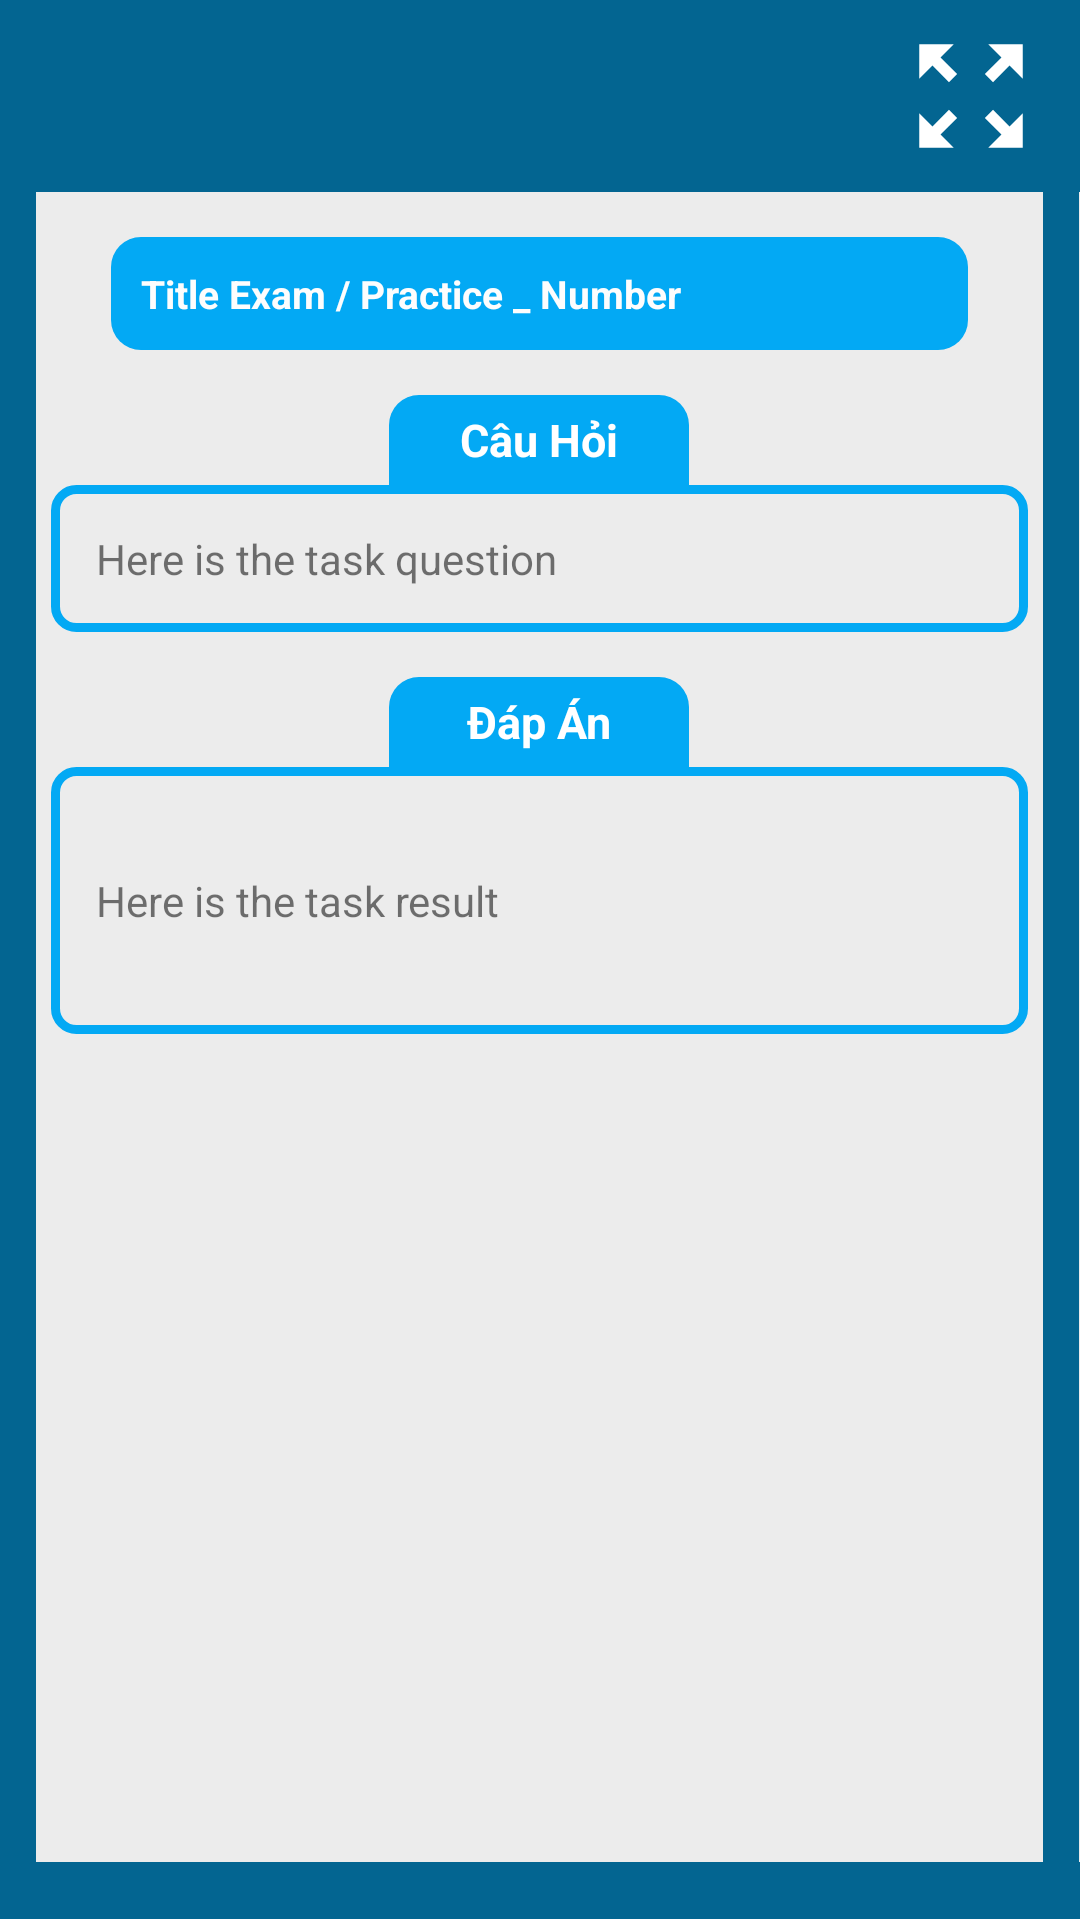

Icons on this 1080 × 1920 Android screen, each with its box as bbox=[x1, y1, x2, y2]:
base zoom: bbox=[919, 44, 1023, 148]
